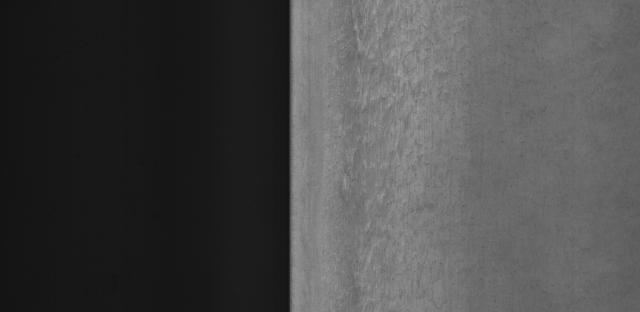silk_spot: (328, 10, 464, 293)
